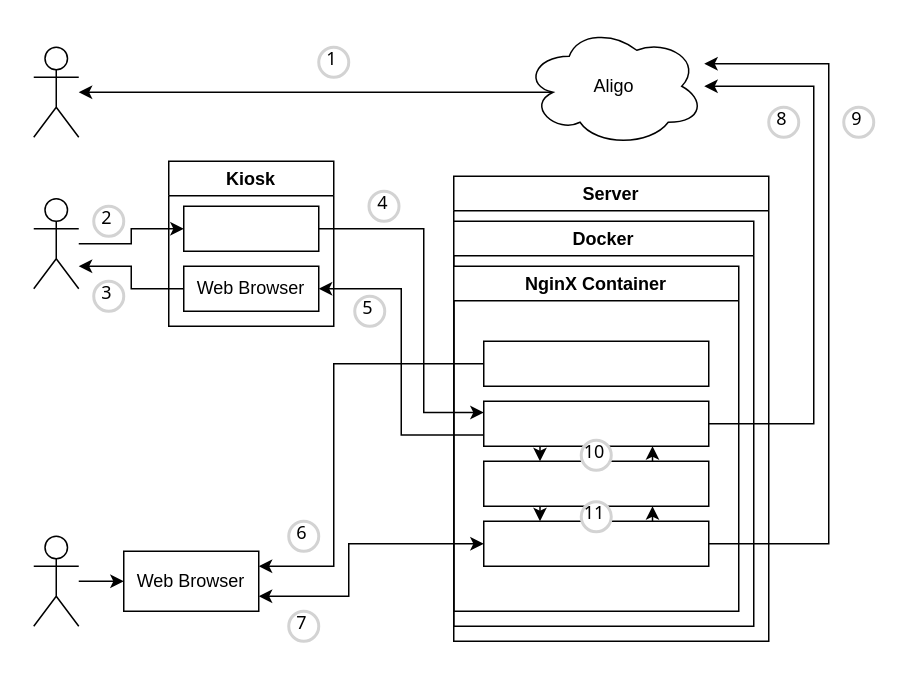
The diagram is 902 pixels wide and 684 high, and some of its shapes have lost their labels. The shapes that lost their labels are listed below. From the top down, each one's centre as x and y in pixels, then its label:
At (x=55, y=91): "Parents".
At (x=55, y=243): "Student".
At (x=250, y=228): "Python Module".
At (x=595, y=363): "React Container".
At (x=595, y=423): "Aligo Container".
At (x=595, y=483): "MySQL Container".
At (x=595, y=543): "Node Container".
At (x=55, y=580): "User".
